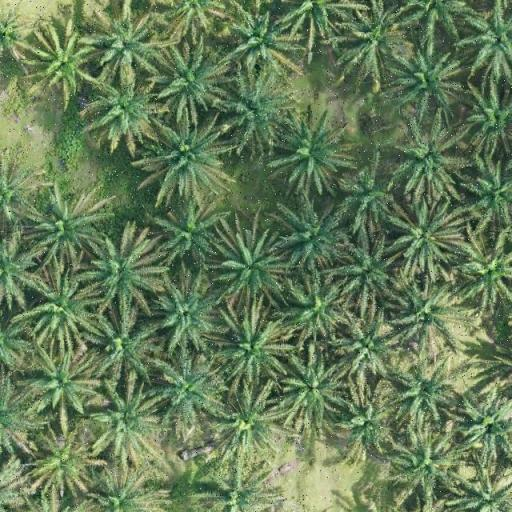Ganoderma: (38, 40, 88, 89), (41, 439, 88, 483)
